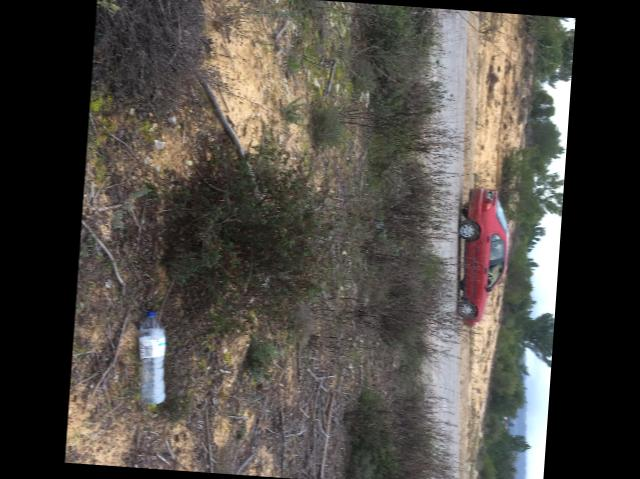plastic: (138, 311, 165, 403)
